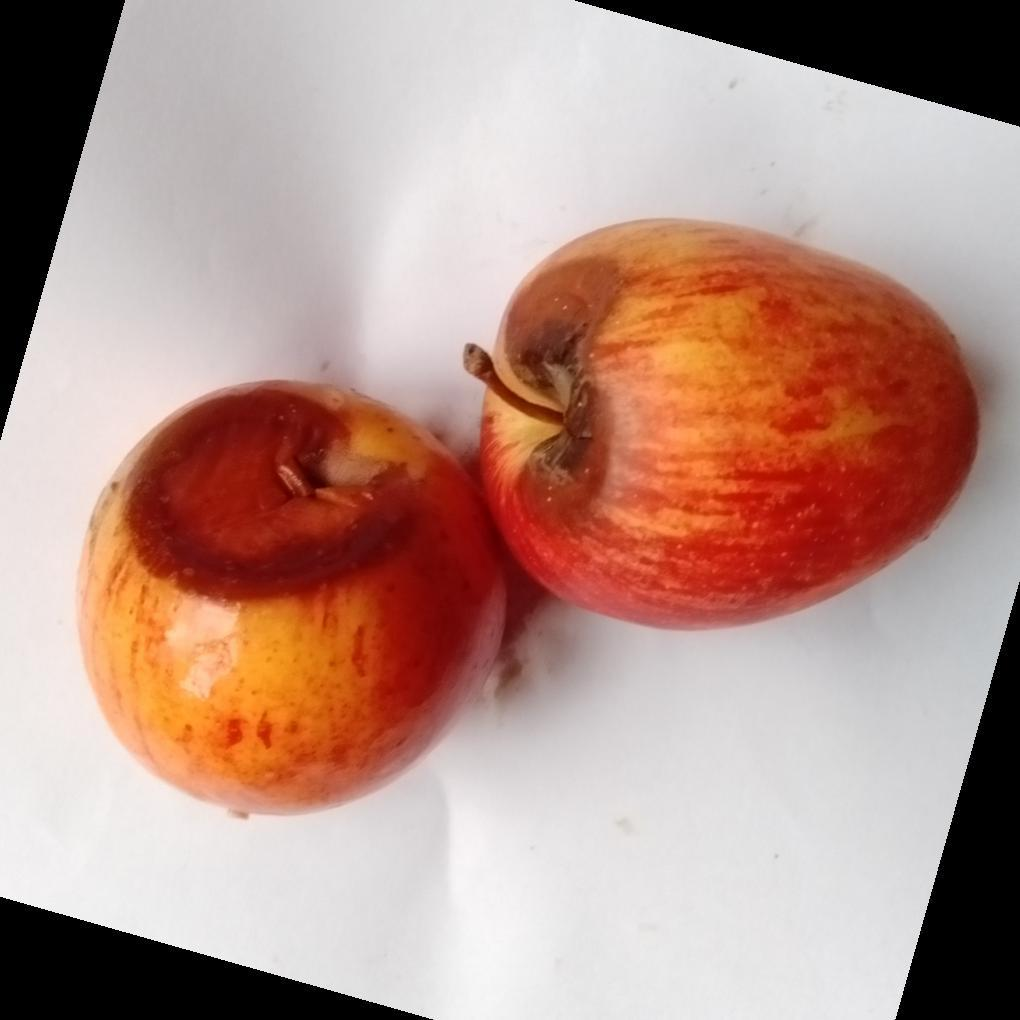FreshOrange: (73, 220, 981, 820)
